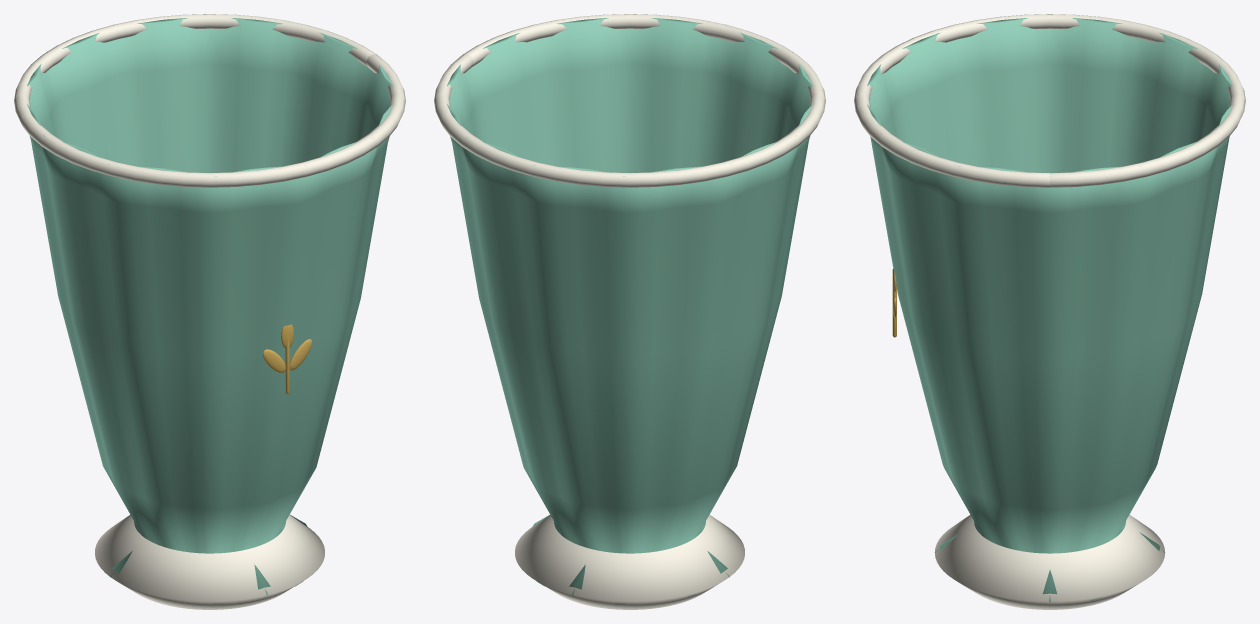
Rendered from stock_vase_tulip.glb.
3 views of the same model, side by side, from view 1: azimuth 30°, elevation 25°; view 2: azimuth 150°, elevation 25°; view 3: azimuth 270°, elevation 25° (orthographic).
Parts seen in each view (by area): view 1: Continuous_hollow_vessel, Cream_pedestal, Rolled_open_lip; view 2: Continuous_hollow_vessel, Cream_pedestal, Rolled_open_lip; view 3: Continuous_hollow_vessel, Cream_pedestal, Rolled_open_lip.
Part boxes in pixels (x1,y1,x2,y2): Continuous_hollow_vessel: (18,14,401,603); Cream_pedestal: (95,514,324,609); Rolled_open_lip: (14,14,405,187); Continuous_hollow_vessel: (438,14,821,603); Cream_pedestal: (515,514,744,609); Rolled_open_lip: (434,14,825,187); Continuous_hollow_vessel: (858,14,1241,602); Cream_pedestal: (935,514,1164,609); Rolled_open_lip: (854,14,1245,187).
Bounding box in the file's own units: 0.25 × 0.341 × 0.25.
